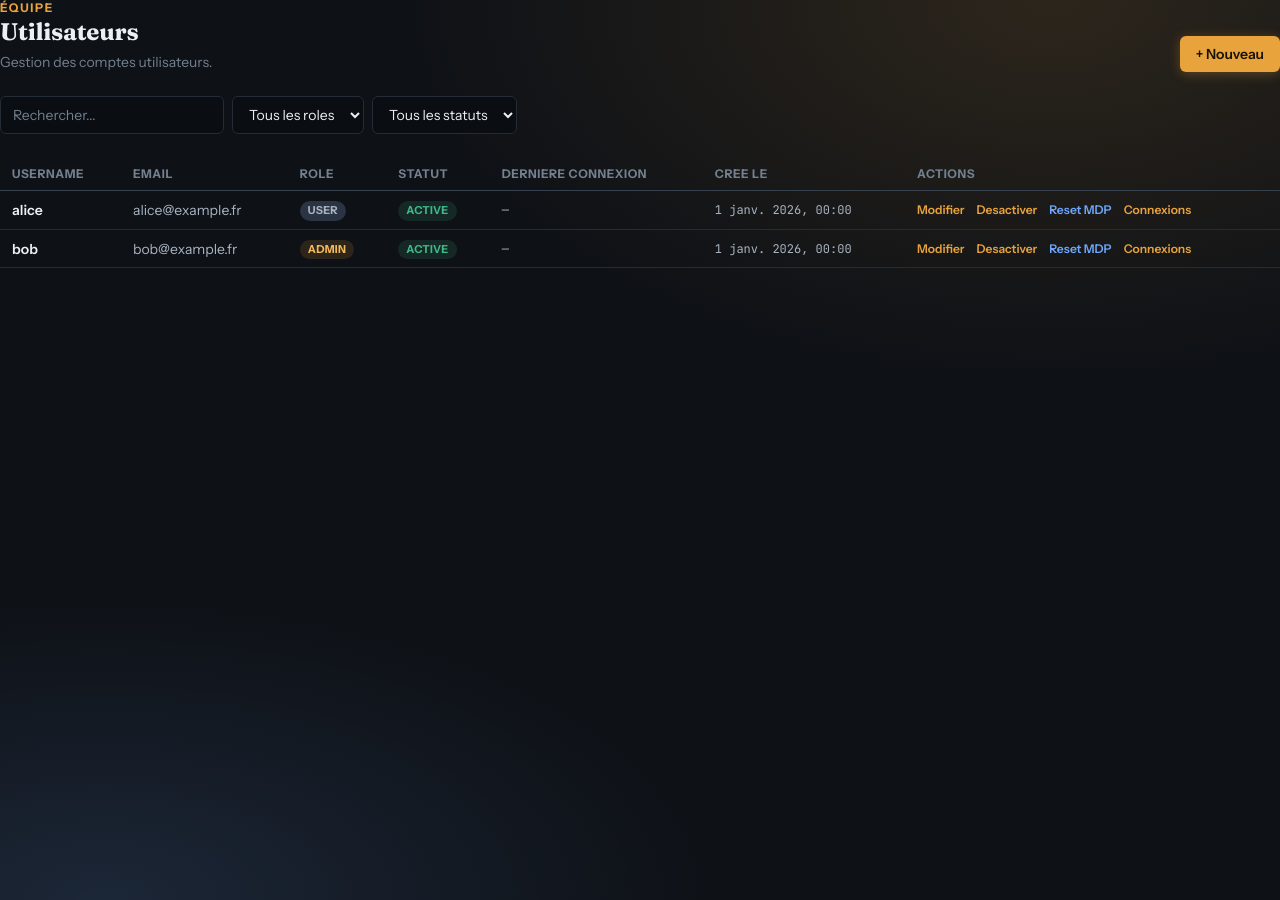
Scenario: AdminUsersPage › affiche un message d absence de connexion quand l historique est vide
This screenshot has width=1280, height=900.
Check: the text "alice" is shown, box 12,201 -> 43,219
What coordinates should you click on to do the following:
click the button "Connexions" in the row of "alice@example.fr"
I would click on:
 (1157, 210)
Its box is 1124,202 -> 1191,218.
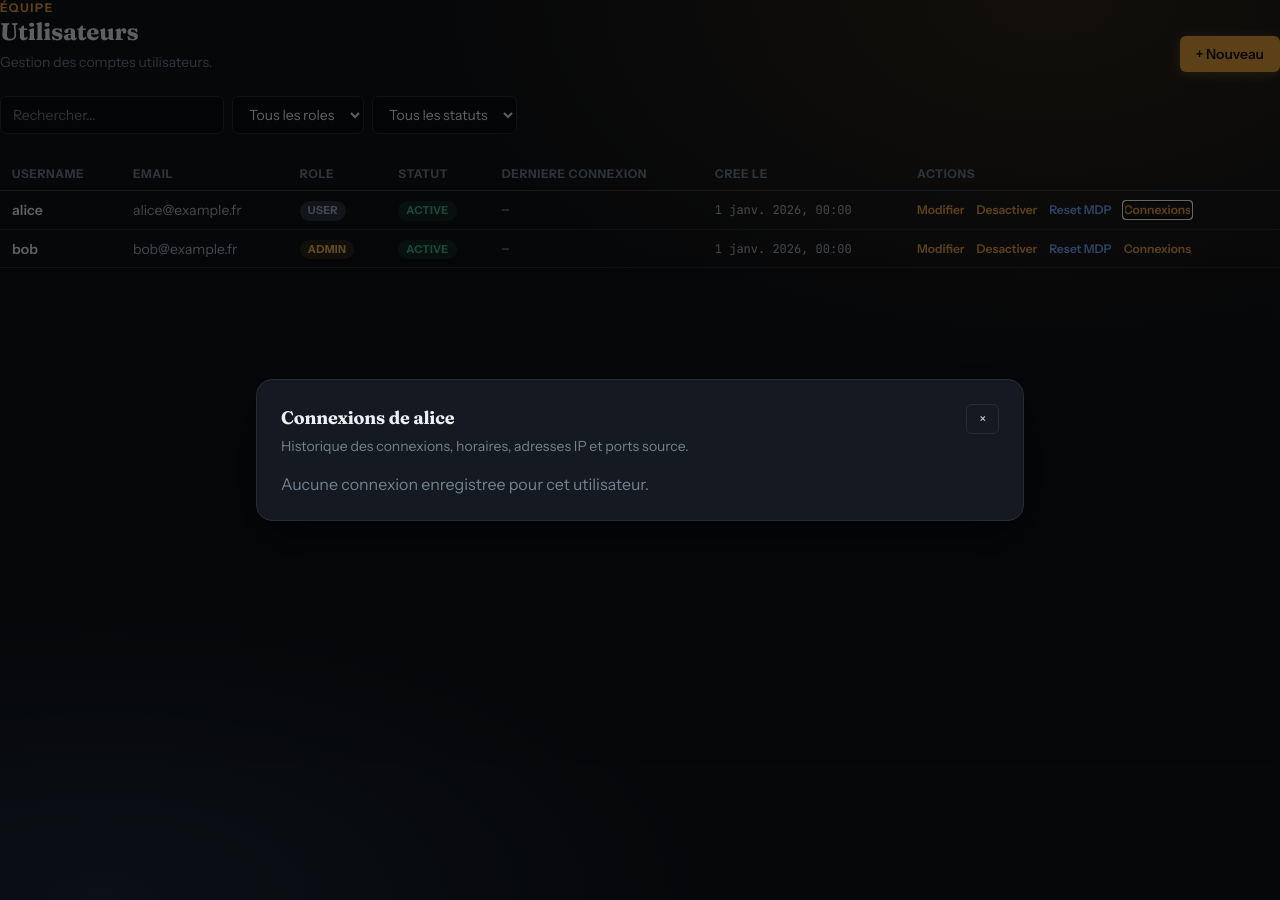
Check: the text "Aucune connexion enregistree pour cet utilisateur." is shown, box 281,474 -> 649,494
